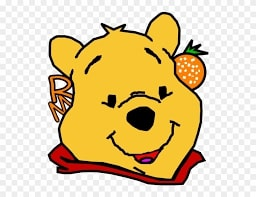Winnie: (39, 8, 221, 188)
